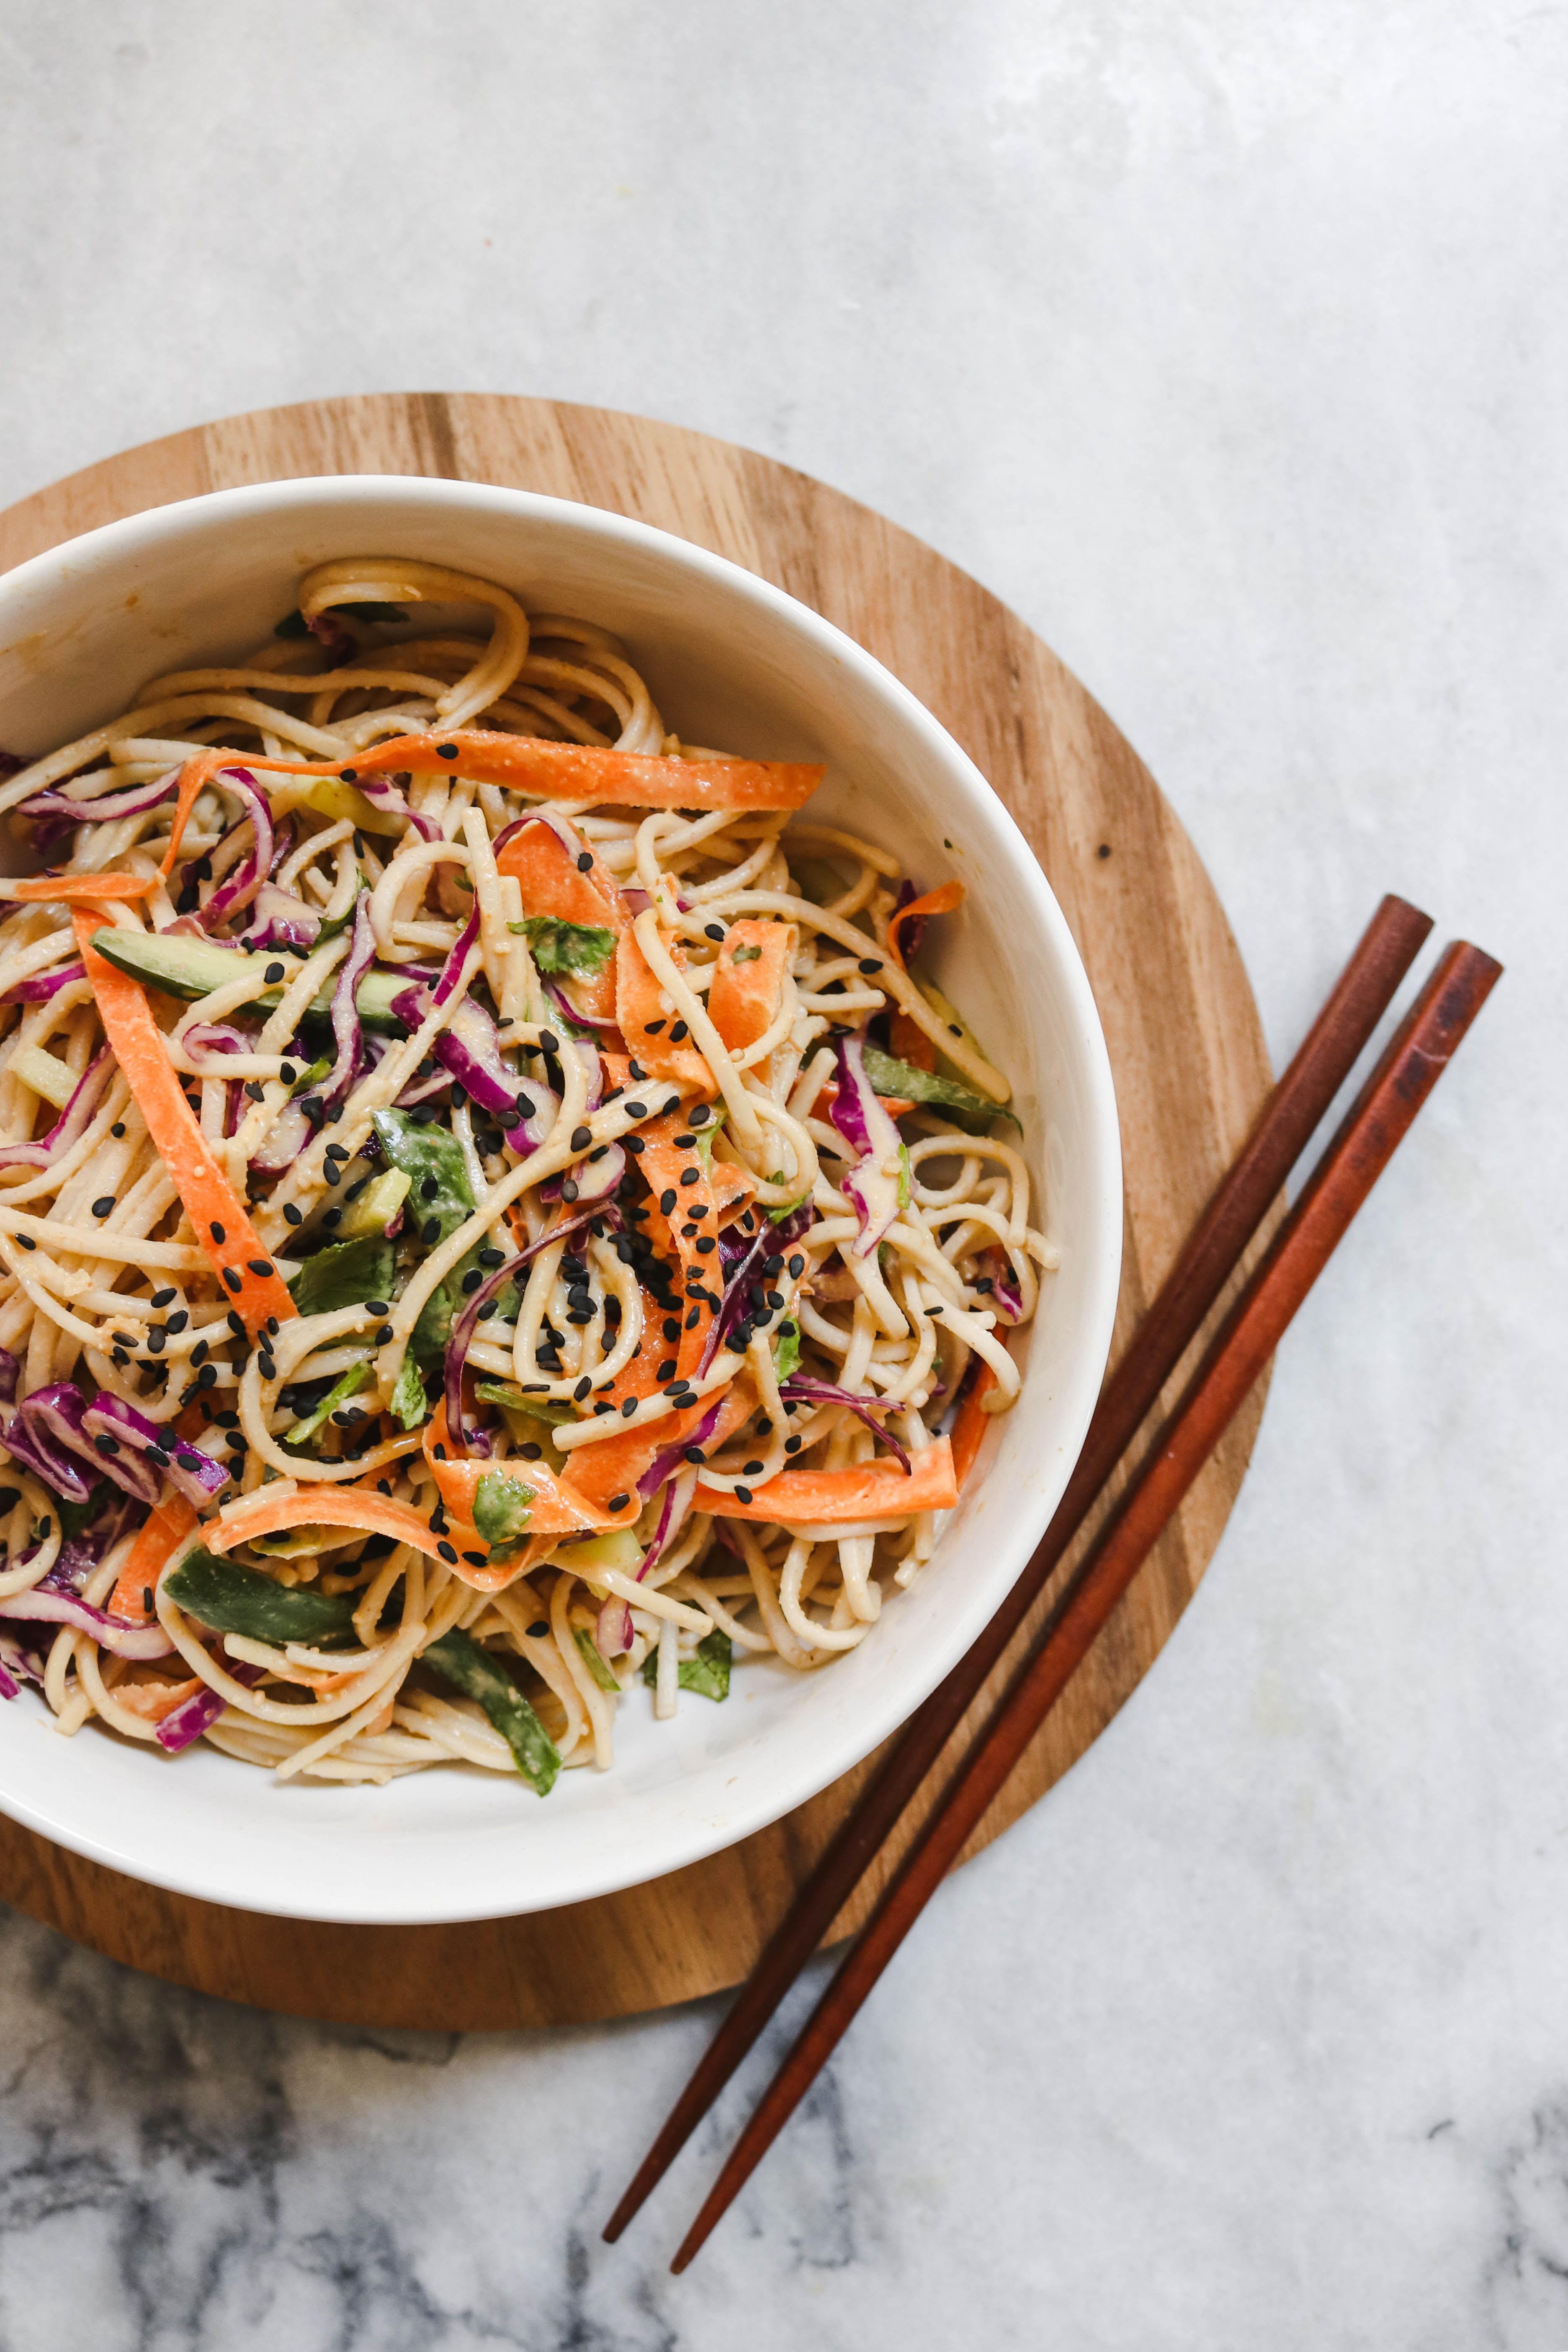Soba: (12, 670, 1036, 1755)
